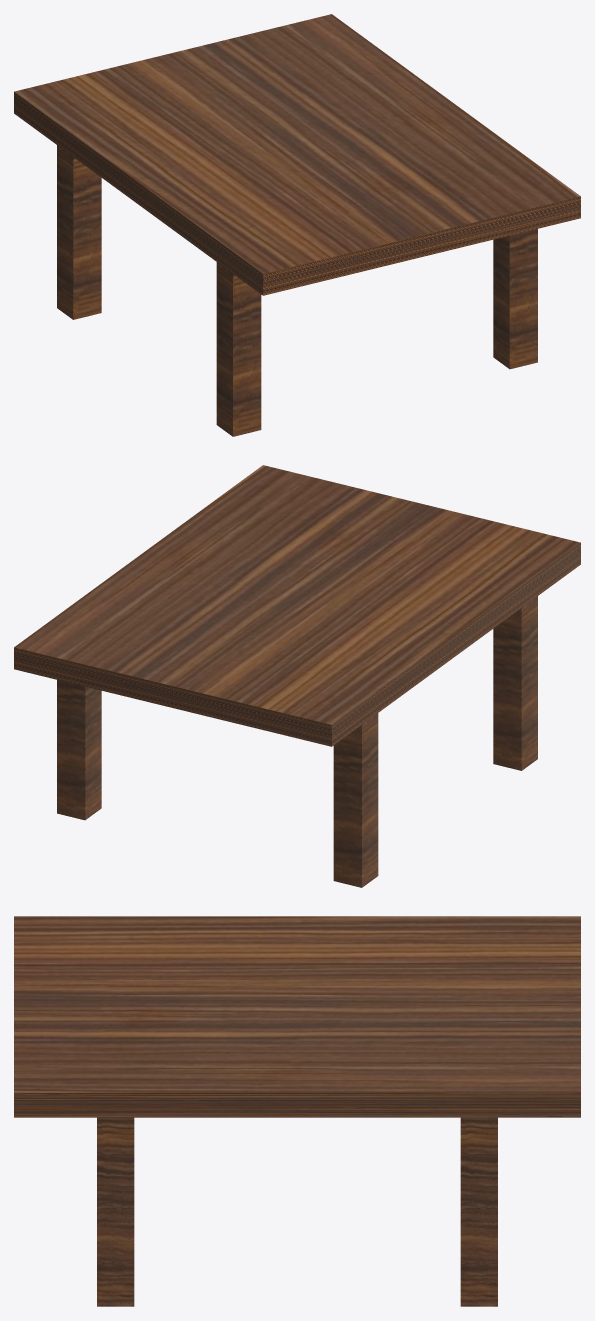
Rendered from Stolik.fbx.
3 views of the same model, one above another, from view 1: azimuth 30°, elevation 25°; view 2: azimuth 150°, elevation 25°; view 3: azimuth 270°, elevation 25° (orthographic). The views are drawn at different scales.
Visible parts, largest first — view 1: Cube; view 2: Cube; view 3: Cube.
Boxes of the visible parts, x1,y1,x2,y2 form: Cube: [14, 14, 580, 436]; Cube: [14, 465, 580, 887]; Cube: [14, 916, 580, 1306].
Size of the model in its own units: 230 by 132 by 312.
